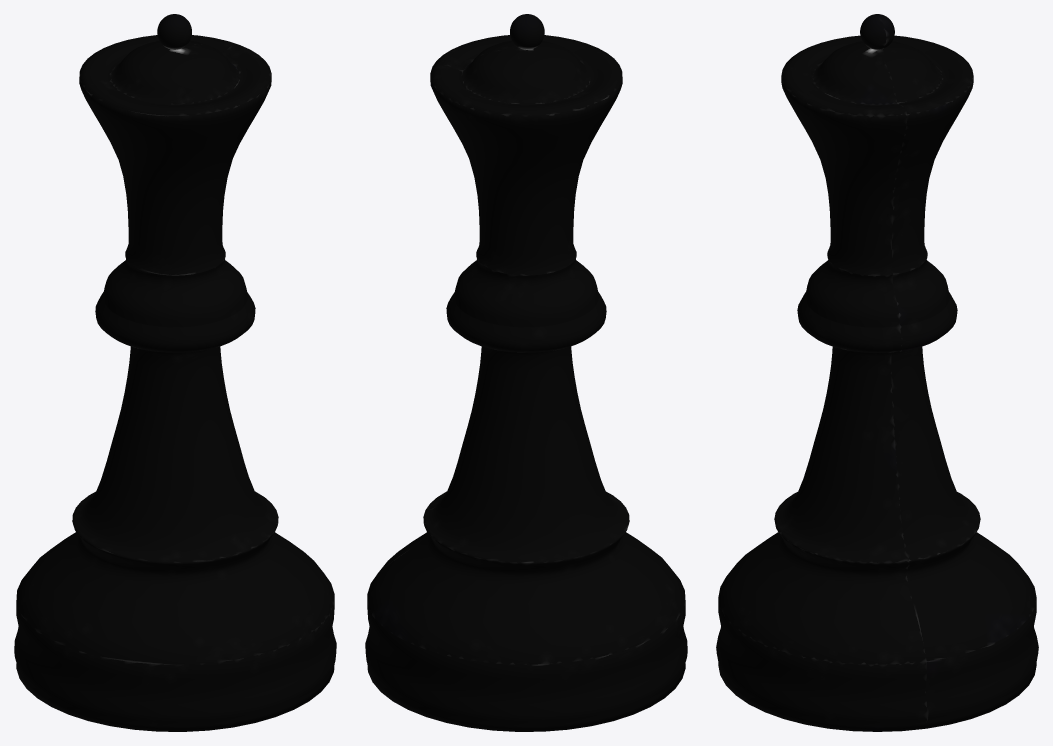
The model's file is Reina_Negro.glb.
3 renders of one model, left to right at view 1: azimuth 30°, elevation 25°; view 2: azimuth 150°, elevation 25°; view 3: azimuth 270°, elevation 25°, orthographic.
Visible parts, largest first — view 1: reina_b; view 2: reina_b; view 3: reina_b.
Boxes of the visible parts, x1,y1,x2,y2 form: reina_b: [14, 14, 336, 731]; reina_b: [365, 14, 687, 731]; reina_b: [716, 14, 1038, 731].
Size of the model in its own units: 0.8307 by 1.85 by 0.8307.
1 material, 1 textured.
